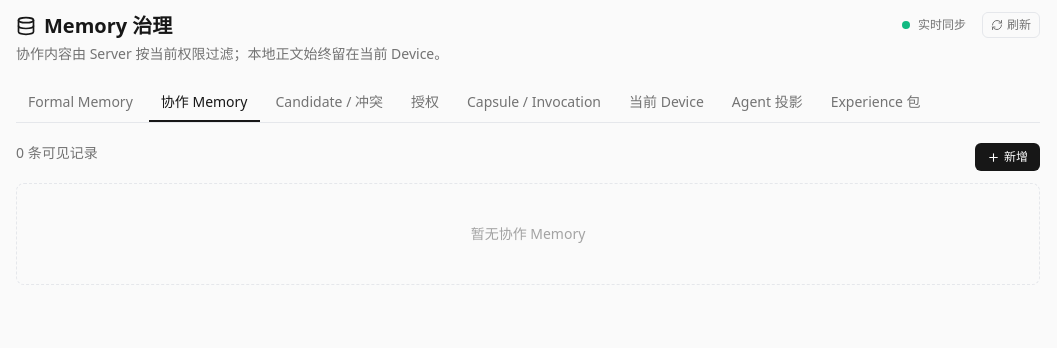
Formal Memory Center (issue #716) › non-admin sees correction action instead of create (AC#6)
Click the button "Formal Memory".
click(80, 103)  # box [16,84,145,122]
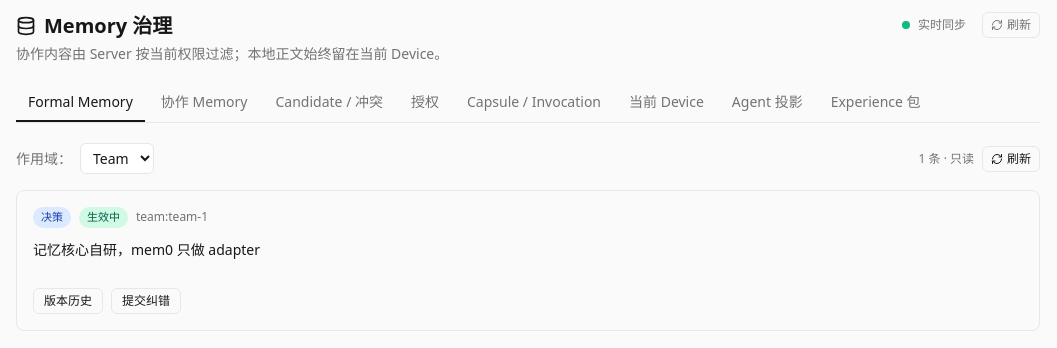
Now the button "提交纠错" is shown, box [111,288,181,314]
